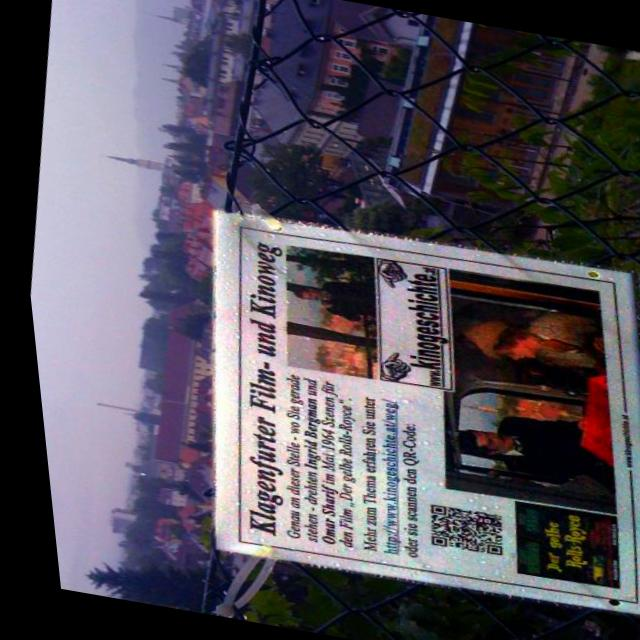qrcode: (414, 503, 496, 556)
